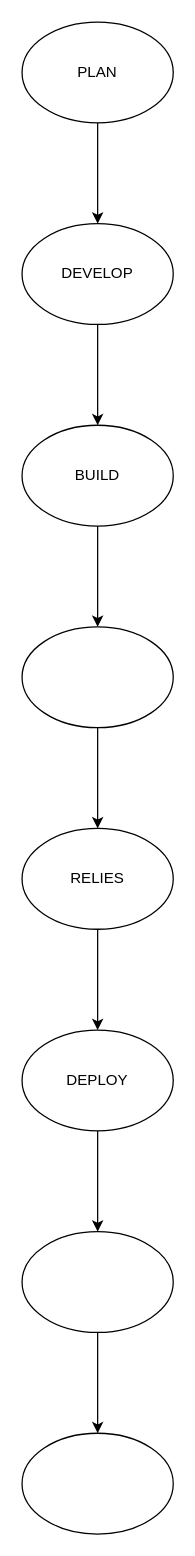
Image size: 195x1556. Some labels were removed from this diagram. Here are the shapes that lost their labels. From the top down, the box of each, then its label:
(21, 626, 173, 728): TEST
(21, 1230, 173, 1332): OPERATE
